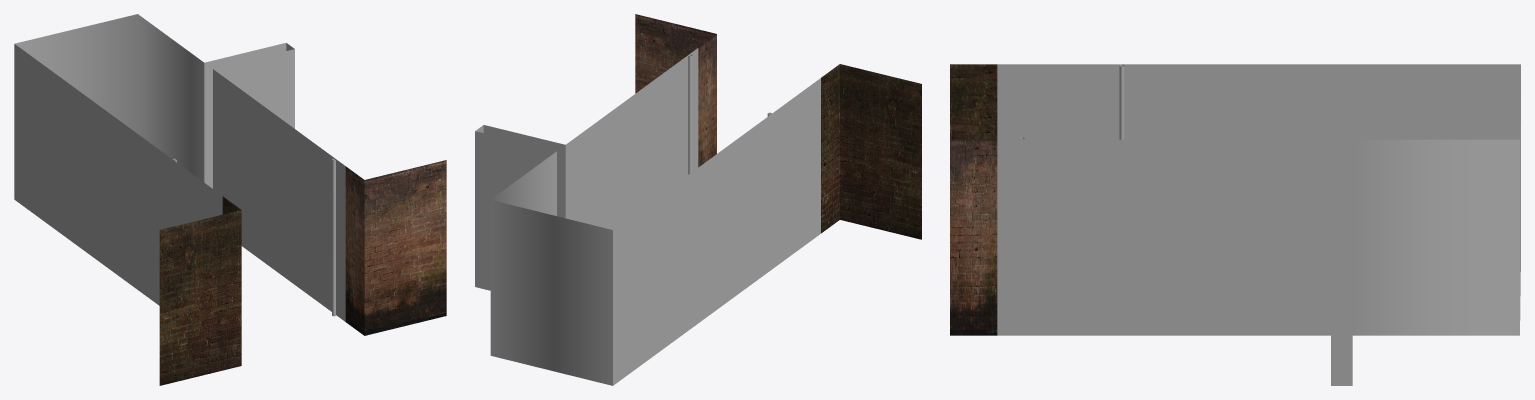
Rendered from Alley_03_Top.fbx.
3 views of the same model, side by side, from view 1: azimuth 30°, elevation 25°; view 2: azimuth 150°, elevation 25°; view 3: azimuth 270°, elevation 25° (orthographic). The views are drawn at different scales.
Parts seen in each view (by area): view 1: Alley_03_Top; view 2: Alley_03_Top; view 3: Alley_03_Top.
Boxes of the visible parts, x1,y1,x2,y2 form: Alley_03_Top: (14, 14, 446, 385); Alley_03_Top: (475, 14, 921, 385); Alley_03_Top: (950, 64, 1520, 385).
Size of the model in its own units: 700 by 364 by 960.
